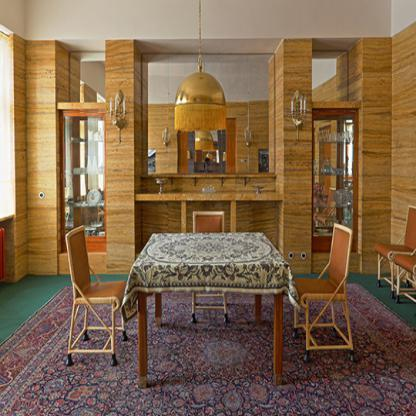chair: (285, 217, 358, 369), (60, 217, 126, 375), (186, 209, 231, 330), (373, 190, 416, 295)
light: (170, 0, 233, 138)
table: (130, 217, 285, 393)
